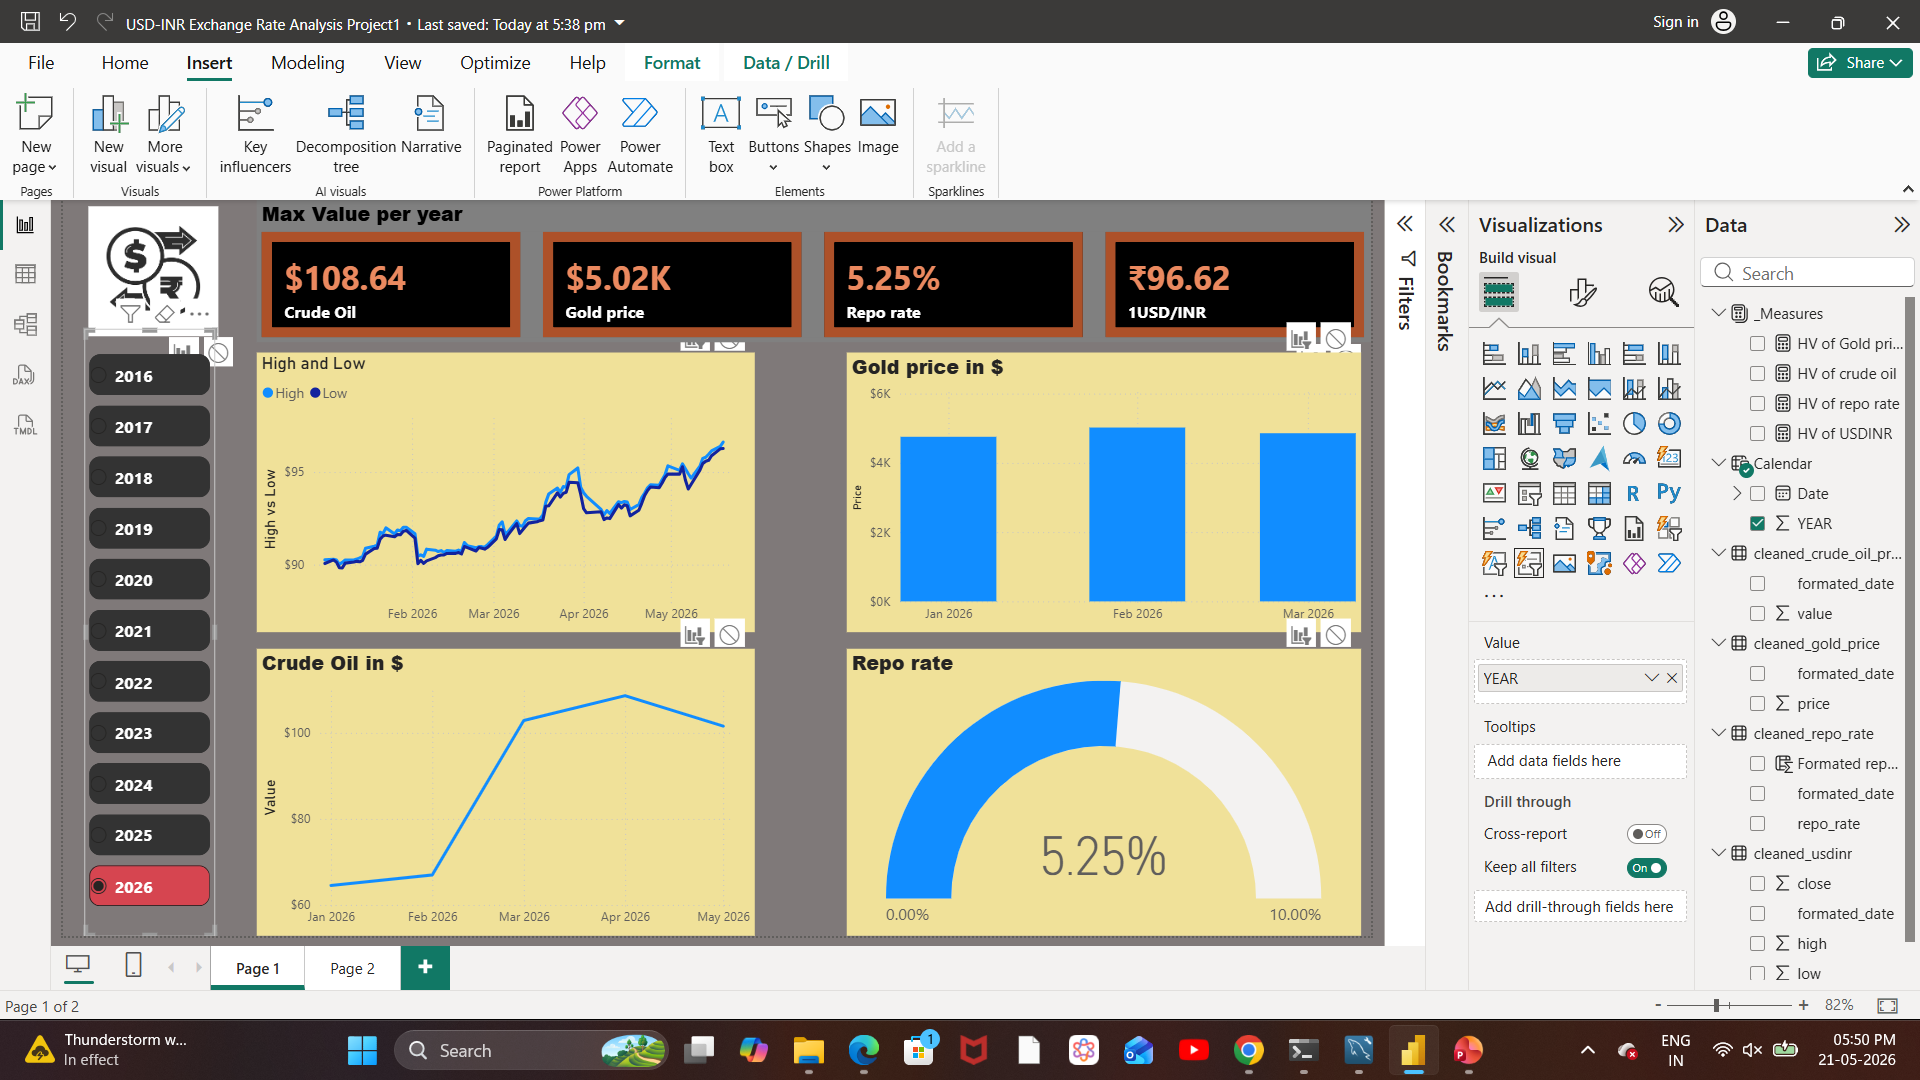

The page's visual inventory and layout, read from the dashboard file:
{"tool":"powerbi","page":{"name":"Page 1","canvas":[1280,720],"ordinal":0},"visuals":[{"type":"lineChart","title":"High and Low ","fields":{"Category":["cleaned_usdinr.formated_date"],"Y":["Sum(cleaned_usdinr.high)","Sum(cleaned_usdinr.low)"]},"box":[189.6,149.7,487.5,273.7],"z":0},{"type":"listSlicer","fields":{"Values":["Calendar.YEAR"]},"box":[20.8,126,128.4,594.3],"z":1000},{"type":"cardVisual","title":"Max Value per year","fields":{"Data":["_Measures.HV of Crude oil","_Measures.HV of  Gold price","_Measures.HV of repo rate","_Measures.HV of USDINR"]},"box":[189.5,0,1090.8,139.4],"z":2000},{"type":"columnChart","title":"Gold price in $","fields":{"Category":["cleaned_gold_price.formated_date"],"Y":["Sum(cleaned_gold_price.price)"]},"box":[766.9,149.7,503.2,273.7],"z":3000},{"type":"lineChart","title":"Crude Oil in $","fields":{"Category":["cleaned_crude_oil_price.formated_date"],"Y":["Sum(cleaned_crude_oil_price.value)"]},"box":[189.6,439,487.5,280.8],"z":4000},{"type":"gauge","title":"Repo rate","fields":{"Y":["Max(cleaned_repo_rate.Formated repo_rate)"]},"box":[767,439,503,281],"z":5000},{"type":"image","box":[0,6.1,177.3,127.2],"z":5001}]}

Visuals, with their boxes on the page's 1280x720 design canvas (x1, y1, x2, y2). These are canvas units, not pixel positions in the 1920x1080 screenshot, which may show the page scaled, cropped or inside an application window:
"High and Low " lineChart: bbox=[190, 150, 677, 423]
listSlicer - Calendar.YEAR: bbox=[21, 126, 149, 720]
"Max Value per year" cardVisual: bbox=[190, 0, 1280, 139]
"Gold price in $" columnChart: bbox=[767, 150, 1270, 423]
"Crude Oil in $" lineChart: bbox=[190, 439, 677, 720]
"Repo rate" gauge: bbox=[767, 439, 1270, 720]
image: bbox=[0, 6, 177, 133]
